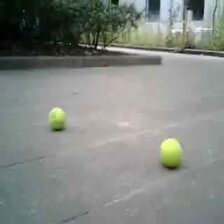tennis: (159, 138, 181, 168), (50, 108, 65, 129)
